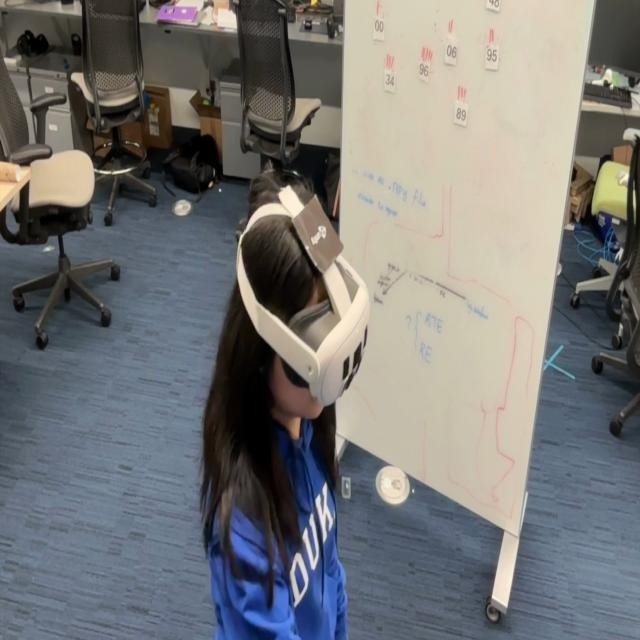Headset: (234, 180, 370, 408)
UnityLogo: (291, 190, 344, 275)
